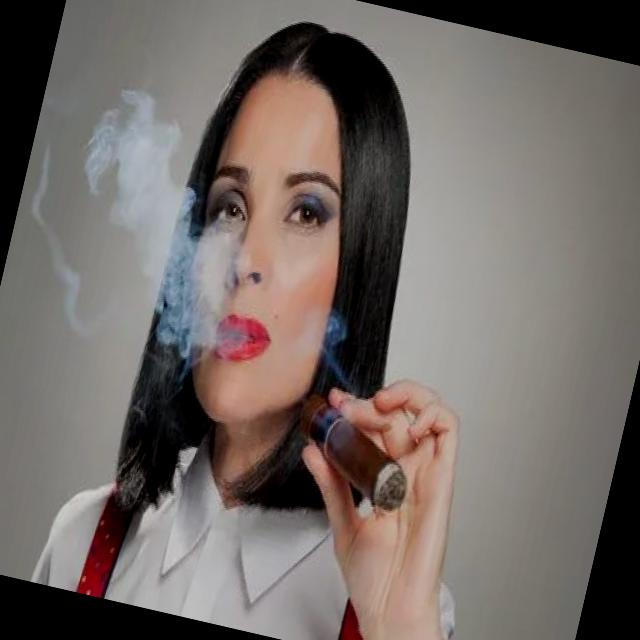smoke: (281, 388, 428, 518)
